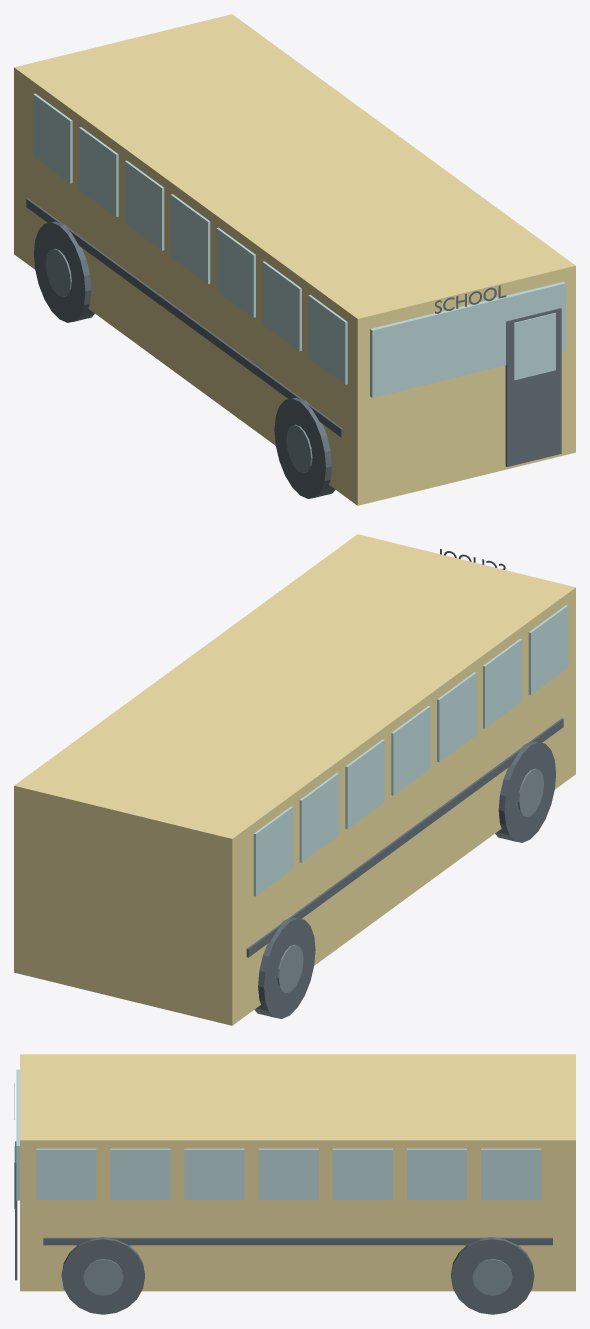
Rendered from school_bus.glb.
3 renders of one model, top to bottom at view 1: azimuth 30°, elevation 25°; view 2: azimuth 150°, elevation 25°; view 3: azimuth 270°, elevation 25°, orthographic. The views are drawn at different scales.
Visible parts, largest first — view 1: school_bus_000, school_bus_009, school_bus_026, school_bus_003, school_bus_001, school_bus_017, school_bus_013, school_bus_010, school_bus_011, school_bus_012, school_bus_014, school_bus_015 (+4 smaller); view 2: school_bus_000, school_bus_001, school_bus_003, school_bus_017, school_bus_010, school_bus_016, school_bus_011, school_bus_012, school_bus_013, school_bus_014, school_bus_015, school_bus_004 (+1 smaller); view 3: school_bus_000, school_bus_025, school_bus_005, school_bus_007, school_bus_019, school_bus_020, school_bus_018, school_bus_021, school_bus_022, school_bus_024, school_bus_023, school_bus_008 (+3 smaller).
Part boxes in pixels (bbox=[...]): school_bus_000: bbox=[14, 14, 575, 505]; school_bus_009: bbox=[370, 281, 565, 397]; school_bus_026: bbox=[505, 308, 561, 466]; school_bus_003: bbox=[34, 221, 94, 322]; school_bus_001: bbox=[274, 397, 335, 498]; school_bus_017: bbox=[26, 198, 343, 437]; school_bus_013: bbox=[170, 194, 210, 283]; school_bus_010: bbox=[308, 295, 347, 384]; school_bus_011: bbox=[262, 261, 301, 351]; school_bus_012: bbox=[216, 227, 255, 317]; school_bus_014: bbox=[125, 160, 164, 250]; school_bus_015: bbox=[79, 127, 118, 216]; school_bus_000: bbox=[14, 534, 575, 1025]; school_bus_001: bbox=[495, 741, 555, 842]; school_bus_003: bbox=[254, 917, 315, 1018]; school_bus_017: bbox=[246, 718, 563, 957]; school_bus_010: bbox=[528, 605, 568, 694]; school_bus_016: bbox=[253, 806, 293, 896]; school_bus_011: bbox=[483, 638, 522, 728]; school_bus_012: bbox=[437, 672, 476, 761]; school_bus_013: bbox=[391, 705, 430, 795]; school_bus_014: bbox=[345, 739, 384, 829]; school_bus_015: bbox=[299, 773, 338, 862]; school_bus_004: bbox=[277, 944, 303, 993]; school_bus_000: bbox=[20, 1054, 575, 1291]; school_bus_025: bbox=[43, 1237, 552, 1245]; school_bus_005: bbox=[61, 1237, 144, 1314]; school_bus_007: bbox=[451, 1237, 534, 1314]; school_bus_019: bbox=[110, 1148, 170, 1199]; school_bus_020: bbox=[184, 1148, 244, 1199]; school_bus_018: bbox=[36, 1148, 96, 1199]; school_bus_021: bbox=[258, 1148, 318, 1199]; school_bus_022: bbox=[332, 1148, 392, 1199]; school_bus_024: bbox=[481, 1148, 541, 1199]; school_bus_023: bbox=[407, 1148, 466, 1199]; school_bus_008: bbox=[472, 1259, 512, 1295].
Bounding box in the file's own units: 2.35 × 2.07 × 6.06.
